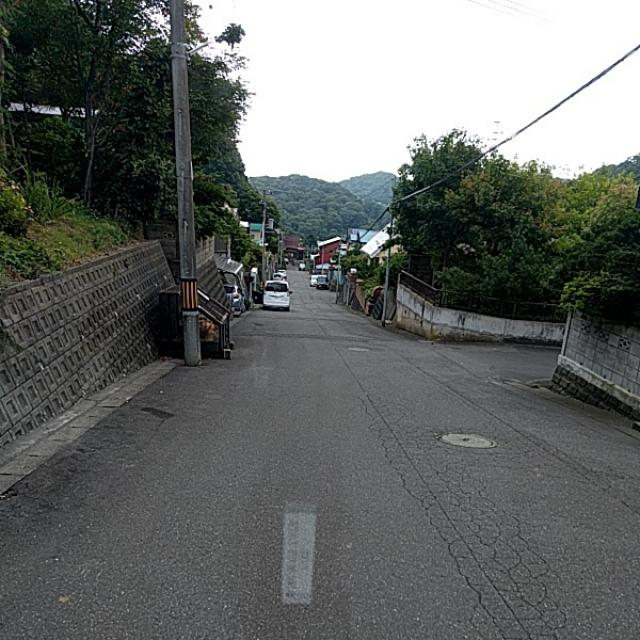pothole: (324, 386, 601, 635)
